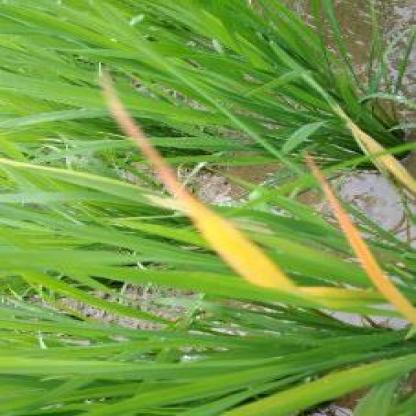Tungro: (109, 75, 371, 311), (307, 156, 416, 325)
